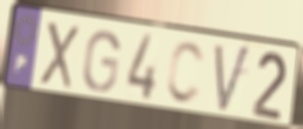2: (251, 51, 288, 123)
4: (124, 32, 160, 104)
C: (164, 39, 207, 108)
G: (80, 28, 122, 95)
V: (212, 41, 253, 117)
X: (38, 19, 81, 92)
